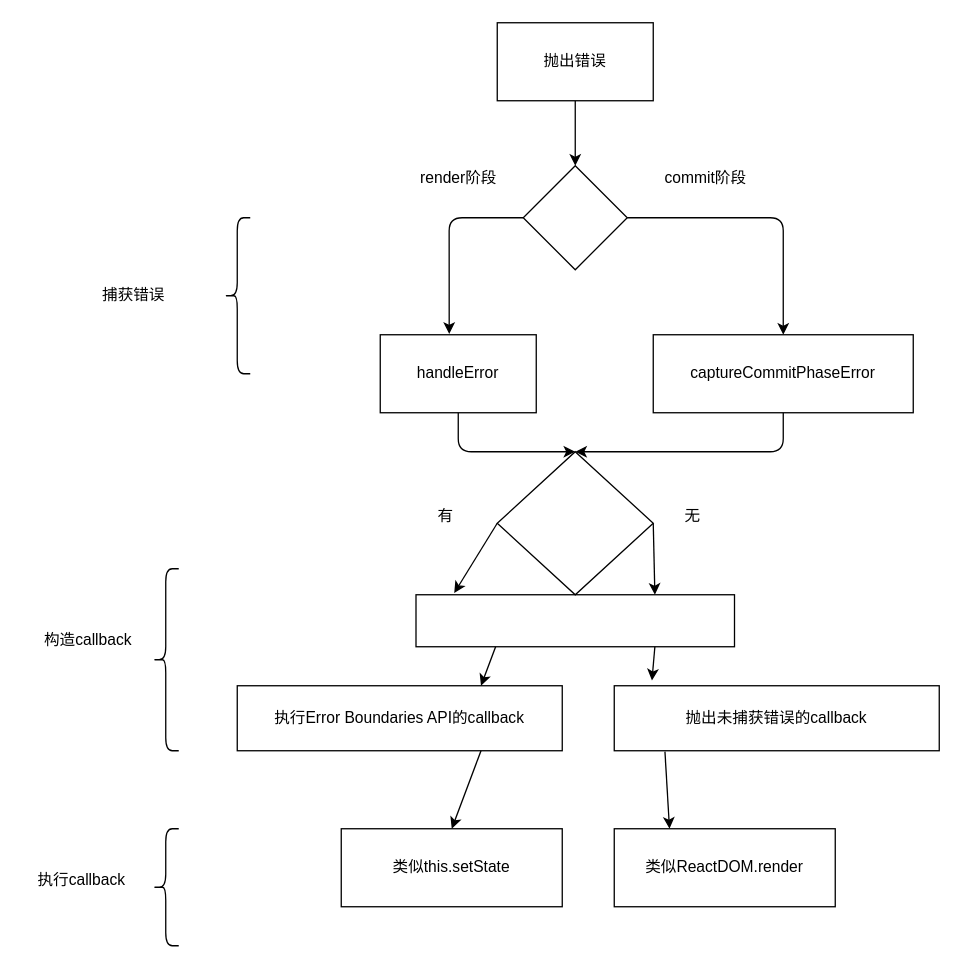
Image size: 962x968. Some labels were removed from this diagram. Here are the shapes that lost their labels. From the top down, the centre of each, then its label:
the point at 574,217: 哪个阶段
the point at 574,522: 是否有 Error Boundaries
the point at 574,620: 抛出React提示信息的callback
